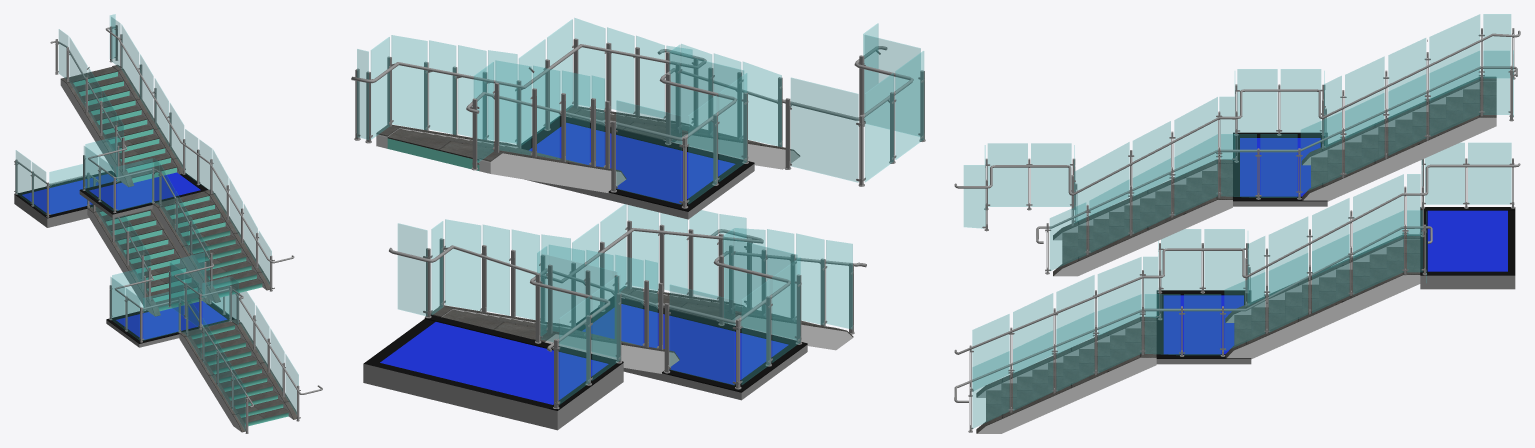
Rendered from Link_Stair.fbx.
The picture shows the model from 3 angles, left to right: view 1: azimuth 30°, elevation 25°; view 2: azimuth 150°, elevation 25°; view 3: azimuth 270°, elevation 25°; orthographic projection. The views are drawn at different scales.
Parts seen in each view (by area): view 1: Stair_Fence_A_2F, Stair_Fence_A_1F, StraightStair02_2F, StraightStair01_1F, StraightStair01_2F, StraightStair02_1F, Stair_Floor_A_2F, Stair_Floor_A_1F, Stair_Floor_B_1F; view 2: Stair_Fence_A_2F, Stair_Fence_A_1F, Stair_Floor_B_1F, Stair_Floor_A_2F, Stair_Floor_A_1F, StraightStair02_2F, StraightStair02_1F, StraightStair01_1F, StraightStair01_2F; view 3: Stair_Fence_A_2F, Stair_Fence_A_1F, StraightStair02_2F, StraightStair02_1F, StraightStair01_1F, StraightStair01_2F, Stair_Floor_B_1F, Stair_Floor_A_1F, Stair_Floor_A_2F.
Boxes of the visible parts, bbox=[...] form: Stair_Fence_A_2F: bbox=[50, 14, 294, 329]; Stair_Fence_A_1F: bbox=[14, 150, 322, 433]; StraightStair02_2F: bbox=[60, 65, 182, 186]; StraightStair01_1F: bbox=[179, 319, 296, 432]; StraightStair01_2F: bbox=[152, 189, 269, 302]; StraightStair02_1F: bbox=[87, 206, 211, 316]; Stair_Floor_A_2F: bbox=[79, 172, 208, 218]; Stair_Floor_A_1F: bbox=[106, 301, 234, 347]; Stair_Floor_B_1F: bbox=[14, 171, 116, 227]; Stair_Fence_A_2F: bbox=[351, 18, 925, 208]; Stair_Fence_A_1F: bbox=[389, 204, 866, 409]; Stair_Floor_B_1F: bbox=[363, 314, 623, 430]; Stair_Floor_A_2F: bbox=[521, 115, 754, 219]; Stair_Floor_A_1F: bbox=[576, 296, 807, 400]; StraightStair02_2F: bbox=[376, 124, 626, 192]; StraightStair02_1F: bbox=[430, 305, 679, 373]; StraightStair01_1F: bbox=[619, 286, 853, 350]; StraightStair01_2F: bbox=[566, 105, 799, 169]; Stair_Fence_A_2F: bbox=[954, 14, 1520, 274]; Stair_Fence_A_1F: bbox=[954, 143, 1520, 432]; StraightStair02_2F: bbox=[1301, 76, 1496, 201]; StraightStair02_1F: bbox=[1225, 234, 1420, 359]; StraightStair01_1F: bbox=[976, 316, 1156, 433]; StraightStair01_2F: bbox=[1053, 159, 1232, 276]; Stair_Floor_B_1F: bbox=[1420, 207, 1515, 289]; Stair_Floor_A_1F: bbox=[1156, 290, 1251, 364]; Stair_Floor_A_2F: bbox=[1233, 132, 1327, 206].
Bounding box in the file's own units: 3.81 × 8.46 × 11.35.
Materials: 8 (1 with a texture image).
